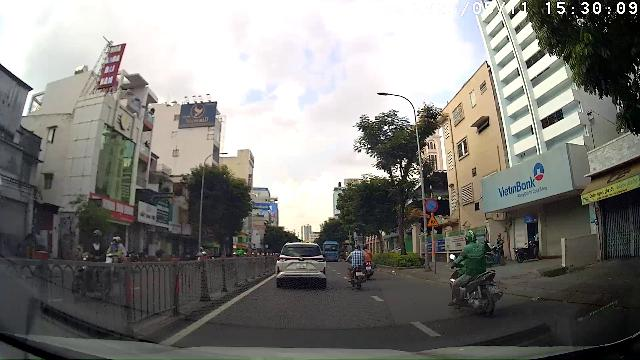131a-cam-do-xe: (426, 198, 438, 212)
